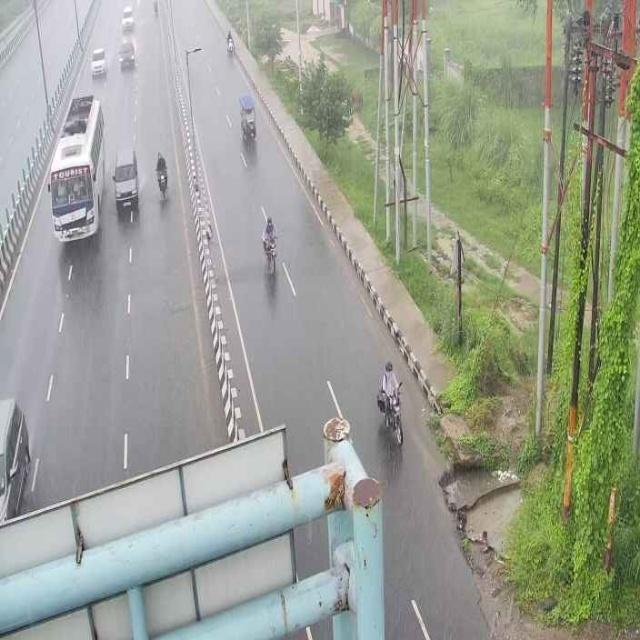car: (1, 388, 37, 529), (111, 143, 144, 221), (149, 144, 175, 208), (113, 35, 138, 73), (86, 40, 109, 81)
